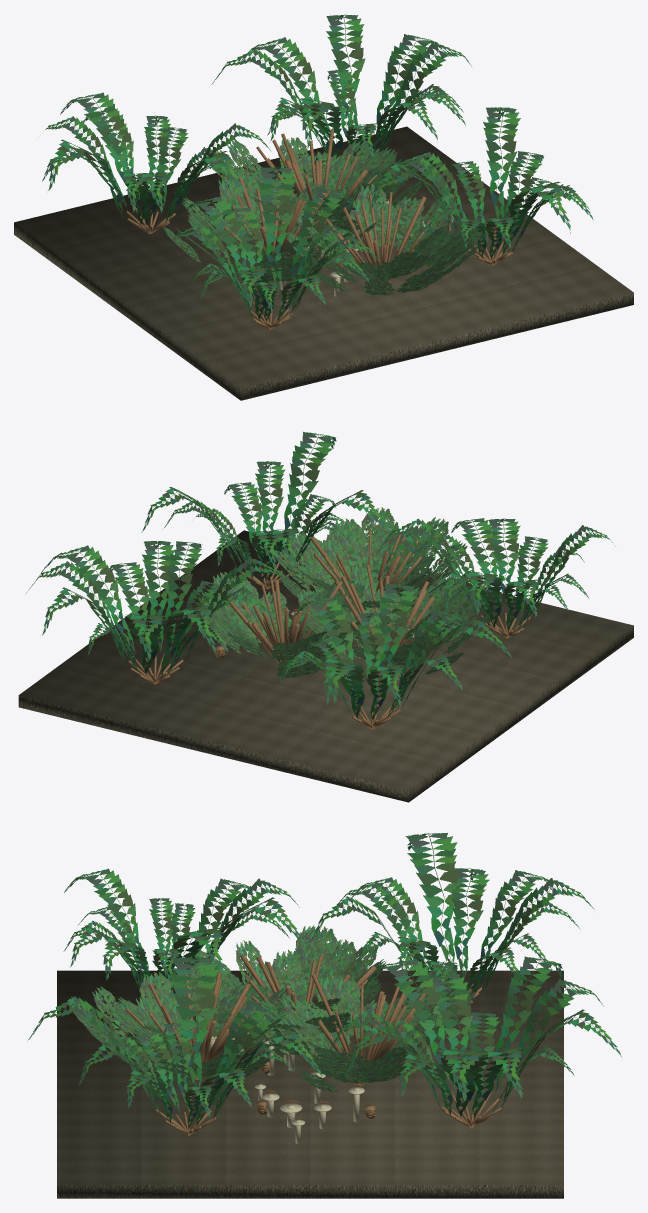
The picture shows the model from 3 angles, top to bottom: view 1: azimuth 30°, elevation 25°; view 2: azimuth 150°, elevation 25°; view 3: azimuth 270°, elevation 25°; orthographic projection. The views are drawn at different scales.
Parts seen in each view (by area): view 1: VIS_Reference_Ground_Dirt, VIS_Fern_Fronds, VIS_Shrub_Foliage, VIS_Shrub_Branches, VIS_Rachis; view 2: VIS_Reference_Ground_Dirt, VIS_Fern_Fronds, VIS_Shrub_Foliage, VIS_Shrub_Branches, VIS_Rachis; view 3: VIS_Reference_Ground_Dirt, VIS_Fern_Fronds, VIS_Shrub_Foliage, VIS_Shrub_Branches, VIS_Mushroom_Stems, VIS_Rachis, VIS_Mushroom_Gills.
Boxes of the visible parts, x1,y1,x2,y2 form: VIS_Reference_Ground_Dirt: (14, 126, 633, 400); VIS_Fern_Fronds: (42, 14, 593, 322); VIS_Shrub_Foliage: (163, 137, 482, 295); VIS_Shrub_Branches: (224, 129, 426, 289); VIS_Rachis: (126, 145, 513, 329); VIS_Reference_Ground_Dirt: (18, 530, 633, 802); VIS_Fern_Fronds: (26, 432, 615, 720); VIS_Shrub_Foliage: (196, 507, 490, 677); VIS_Shrub_Branches: (226, 530, 434, 667); VIS_Rachis: (128, 556, 530, 729); VIS_Reference_Ground_Dirt: (57, 970, 563, 1198); VIS_Fern_Fronds: (27, 833, 621, 1128); VIS_Shrub_Foliage: (68, 925, 474, 1092); VIS_Shrub_Branches: (125, 954, 426, 1085); VIS_Mushroom_Stems: (209, 1036, 359, 1143); VIS_Rachis: (145, 984, 502, 1135); VIS_Mushroom_Gills: (211, 1032, 364, 1125).
Bounding box in the file's own units: 3.6 × 0.9788 × 3.67.
Materials: 6 (6 with a texture image).
